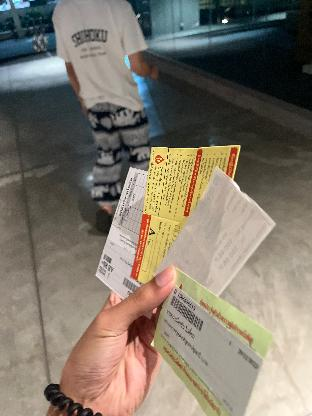Paper: (144, 266, 272, 416), (151, 164, 291, 298), (135, 131, 241, 289), (92, 164, 172, 304)
